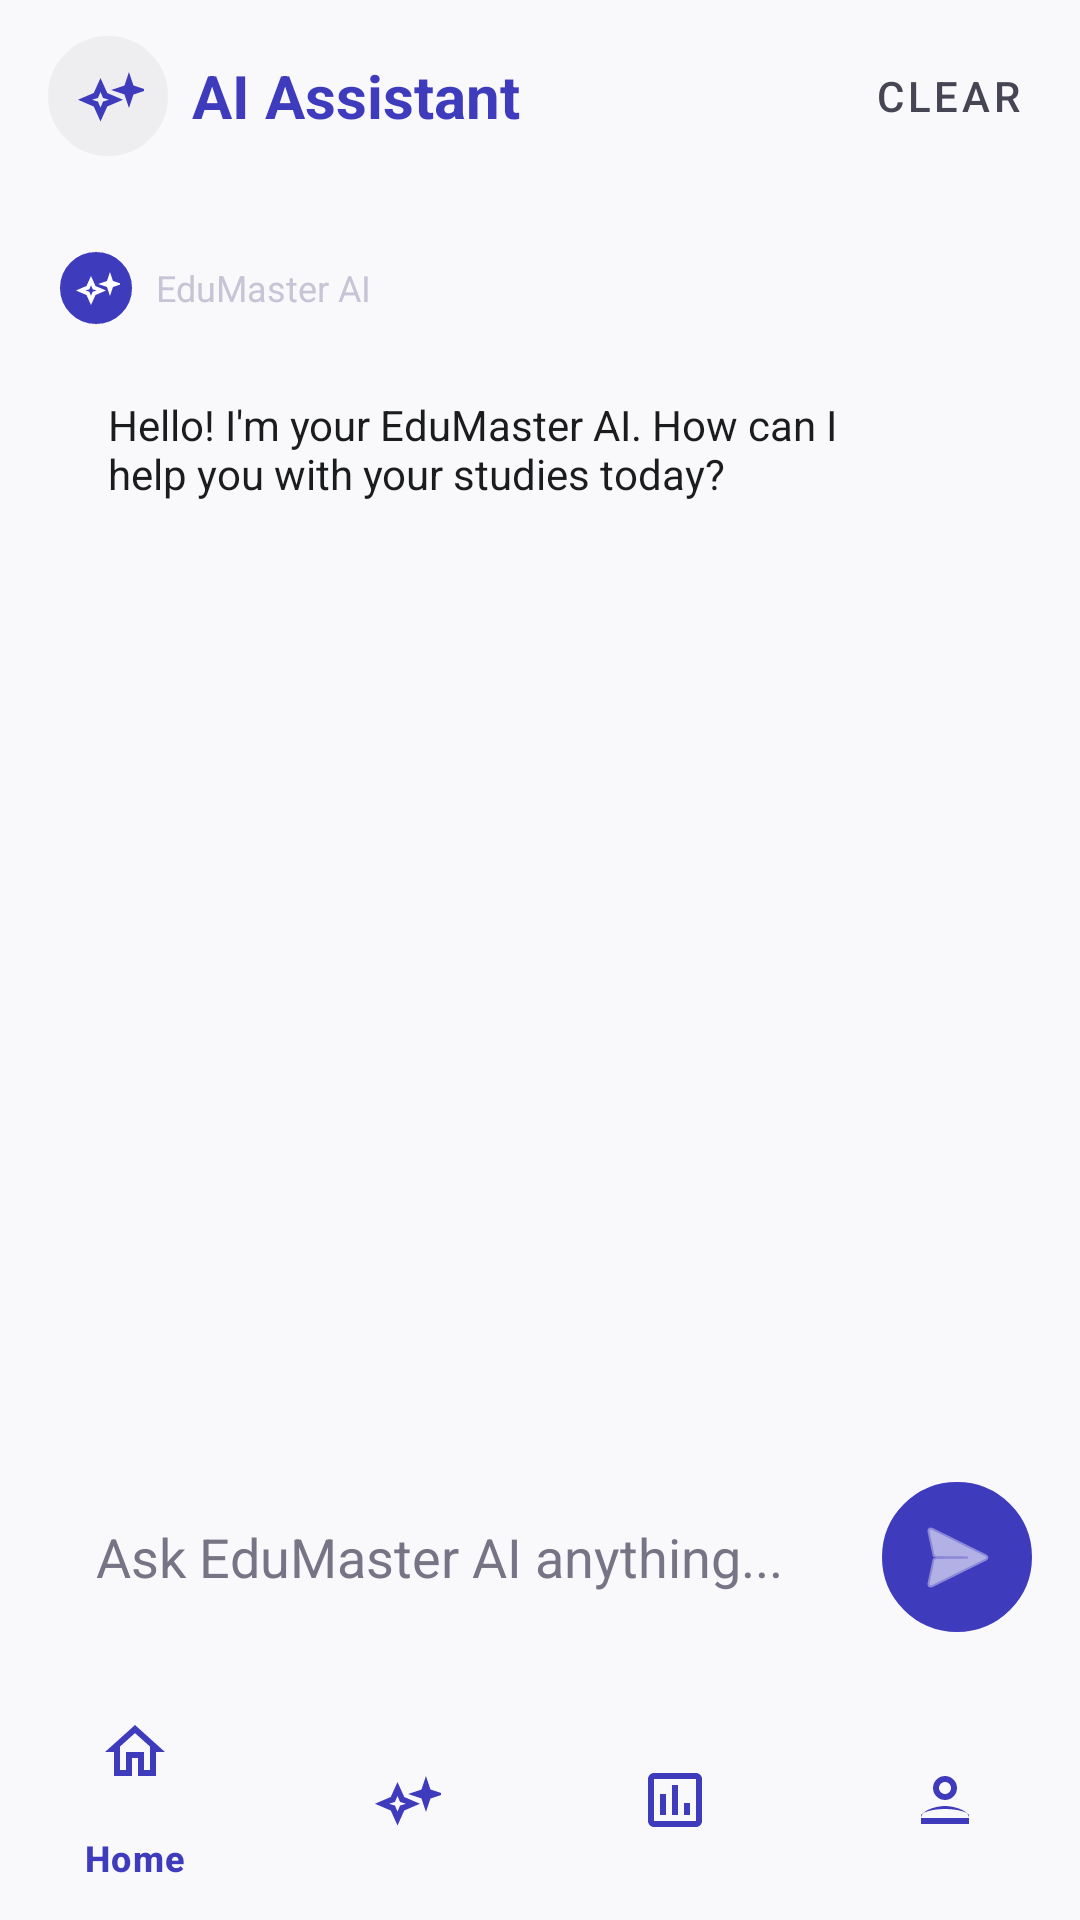

Named icons in this screenshot (1080 × 1920) and their centers, [x,y]:
send: [957,1557]
